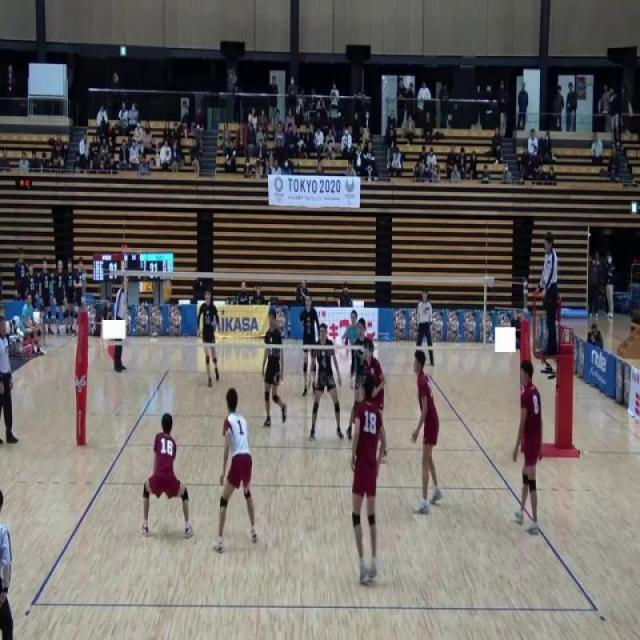volleyball: (161, 278, 172, 301)
